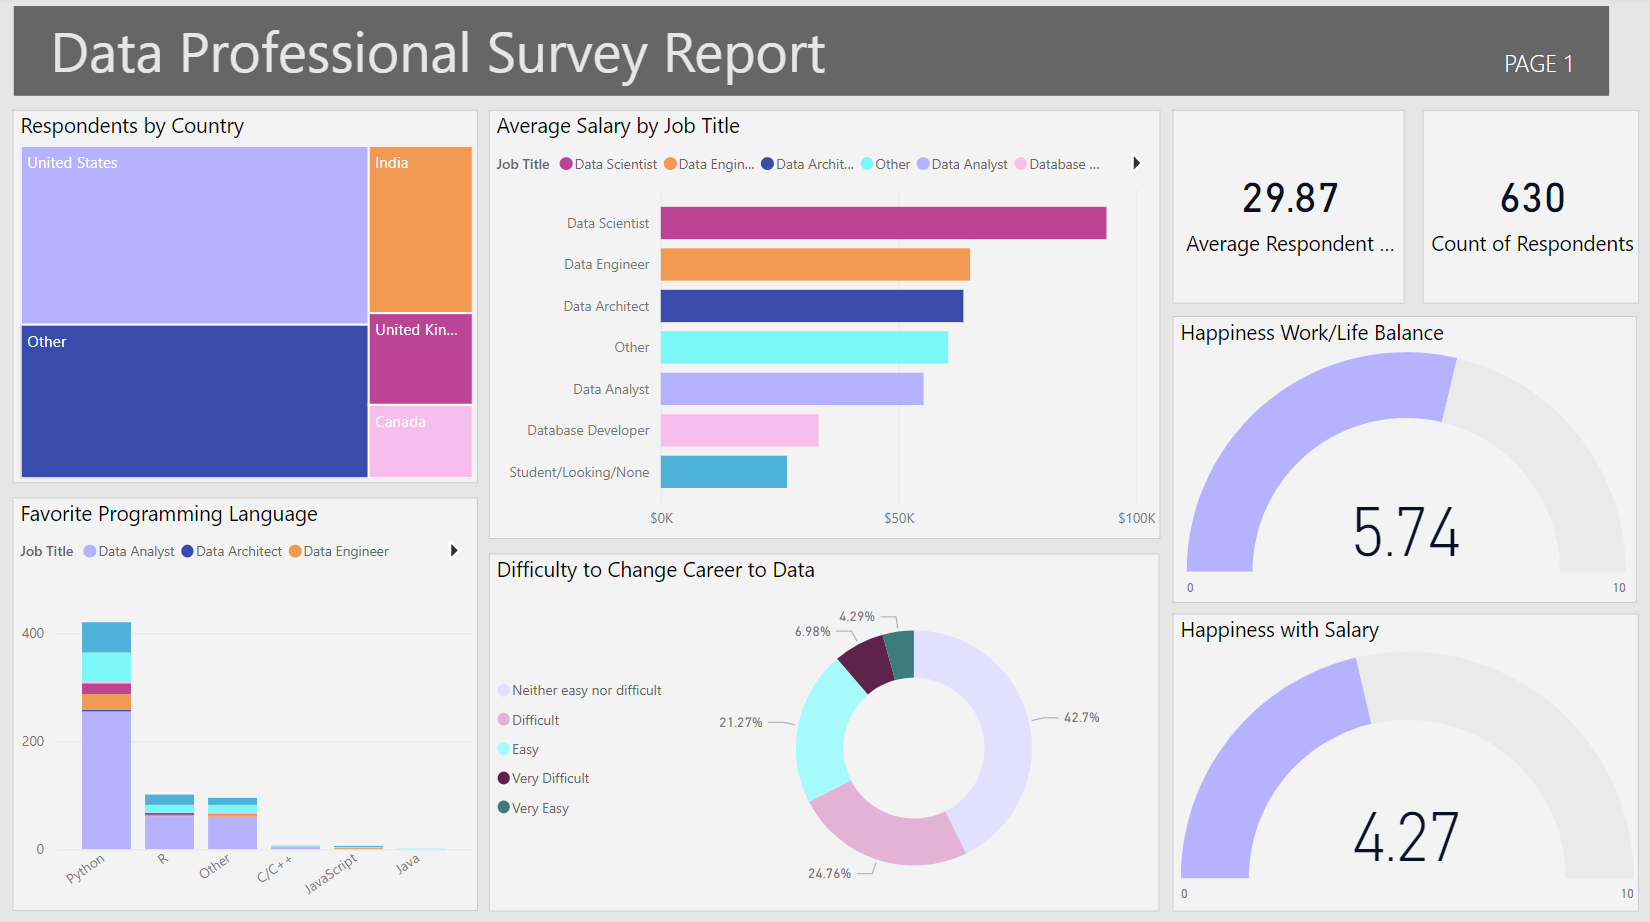

What the dashboard file says about the page in this screenshot:
{"tool":"powerbi","page":{"name":"Page 1","canvas":[1280,720],"ordinal":0},"visuals":[{"type":"textbox","box":[10.3,8.2,1236.9,69.7],"z":0},{"type":"card","fields":{"Values":["CountNonNull(Data Professional Survey.Unique ID)"]},"box":[1102.6,87.7,167.7,150.1],"z":1000},{"type":"card","fields":{"Values":["Avg(Data Professional Survey.Q10 - Current Age)"]},"box":[908.6,87.7,180.4,150.1],"z":2000},{"type":"barChart","title":"Average Salary by Job Title","fields":{"Category":["Data Professional Survey.Q1 - Which Title Best Fits your Current Role?.1"],"Y":["Avg(Data Professional Survey.Average Salary)"],"Series":["Data Professional Survey.Q1 - Which Title Best Fits your Current Role?.1"]},"box":[379.2,87.7,520.6,332.4],"z":3000},{"type":"columnChart","title":"Favorite Programming Language","fields":{"Category":["Data Professional Survey.Q5 - Favorite Programming Language.1"],"Y":["CountNonNull(Data Professional Survey.Unique ID)"],"Series":["Data Professional Survey.Q1 - Which Title Best Fits your Current Role?.1"]},"box":[9.7,389,360.7,320.7],"z":4000},{"type":"treemap","title":"Respondents by Country","fields":{"Group":["Data Professional Survey.Q11 - Which Country do you live in?.1"],"Values":["CountNonNull(Data Professional Survey.Q11 - Which Country do you live in?.1)"]},"box":[9.7,87.7,360.7,289.5],"z":5000},{"type":"gauge","title":"Happiness with Salary","fields":{"Y":["Avg(Data Professional Survey.Q6 - How Happy are you in your Current Position with the following? (Salary))"],"MinValue":["Min(Data Professional Survey.Q6 - How Happy are you in your Current Position with the following? (Salary))"],"MaxValue":["Max(Data Professional Survey.Q6 - How Happy are you in your Current Position with the following? (Salary))"]},"box":[908.6,478.7,361.7,231],"z":6000},{"type":"gauge","title":"Happiness Work/Life Balance","fields":{"Y":["Avg(Data Professional Survey.Q6 - How Happy are you in your Current Position with the following? (Work/Life Balance))"],"MinValue":["Min(Data Professional Survey.Q6 - How Happy are you in your Current Position with the following? (Work/Life Balance))"],"MaxValue":["Max(Data Professional Survey.Q6 - How Happy are you in your Current Position with the following? (Work/Life Balance))1"]},"box":[908.6,247.6,359.7,222.3],"z":7000},{"type":"donutChart","title":"Difficulty to Change Career to Data","fields":{"Category":["Data Professional Survey.Q7 - How difficult was it for you to break into Data?"],"Y":["CountNonNull(Data Professional Survey.Q7 - How difficult was it for you to break into Data?)"]},"box":[379.2,431.9,519.6,277.8],"z":8000}]}

Visuals, with their boxes in screenshot pixels (x1, y1, x2, y2), scaled from the page's 1280x720 canvas onto the 1650x922 screenshot:
textbox: detection(13, 11, 1608, 100)
card - CountNonNull(Data Professional Survey.Unique ID): detection(1421, 112, 1637, 305)
card - Avg(Data Professional Survey.Q10 - Current Age): detection(1171, 112, 1404, 305)
"Average Salary by Job Title" barChart: detection(489, 112, 1160, 538)
"Favorite Programming Language" columnChart: detection(13, 498, 477, 909)
"Respondents by Country" treemap: detection(13, 112, 477, 483)
"Happiness with Salary" gauge: detection(1171, 613, 1637, 909)
"Happiness Work/Life Balance" gauge: detection(1171, 317, 1635, 602)
"Difficulty to Change Career to Data" donutChart: detection(489, 553, 1159, 909)
